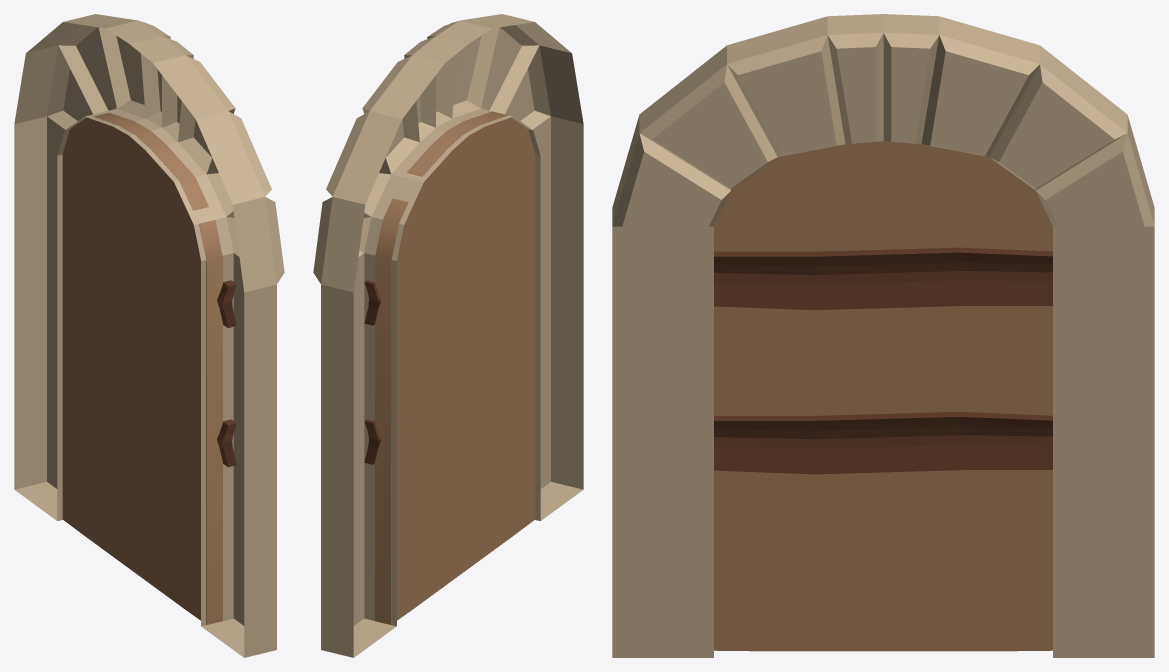
File: SM_watchtower_gate.fbx
3 renders of one model, left to right at view 1: azimuth 30°, elevation 25°; view 2: azimuth 150°, elevation 25°; view 3: azimuth 270°, elevation 25°, orthographic. The views are drawn at different scales.
Parts seen in each view (by area): view 1: watchtower_gate; view 2: watchtower_gate; view 3: watchtower_gate.
Boxes of the visible parts, x1,y1,x2,y2 form: watchtower_gate: [14, 14, 284, 657]; watchtower_gate: [313, 14, 583, 657]; watchtower_gate: [612, 14, 1154, 657].
Bounding box in the file's own units: 27.72 × 314 × 247.
